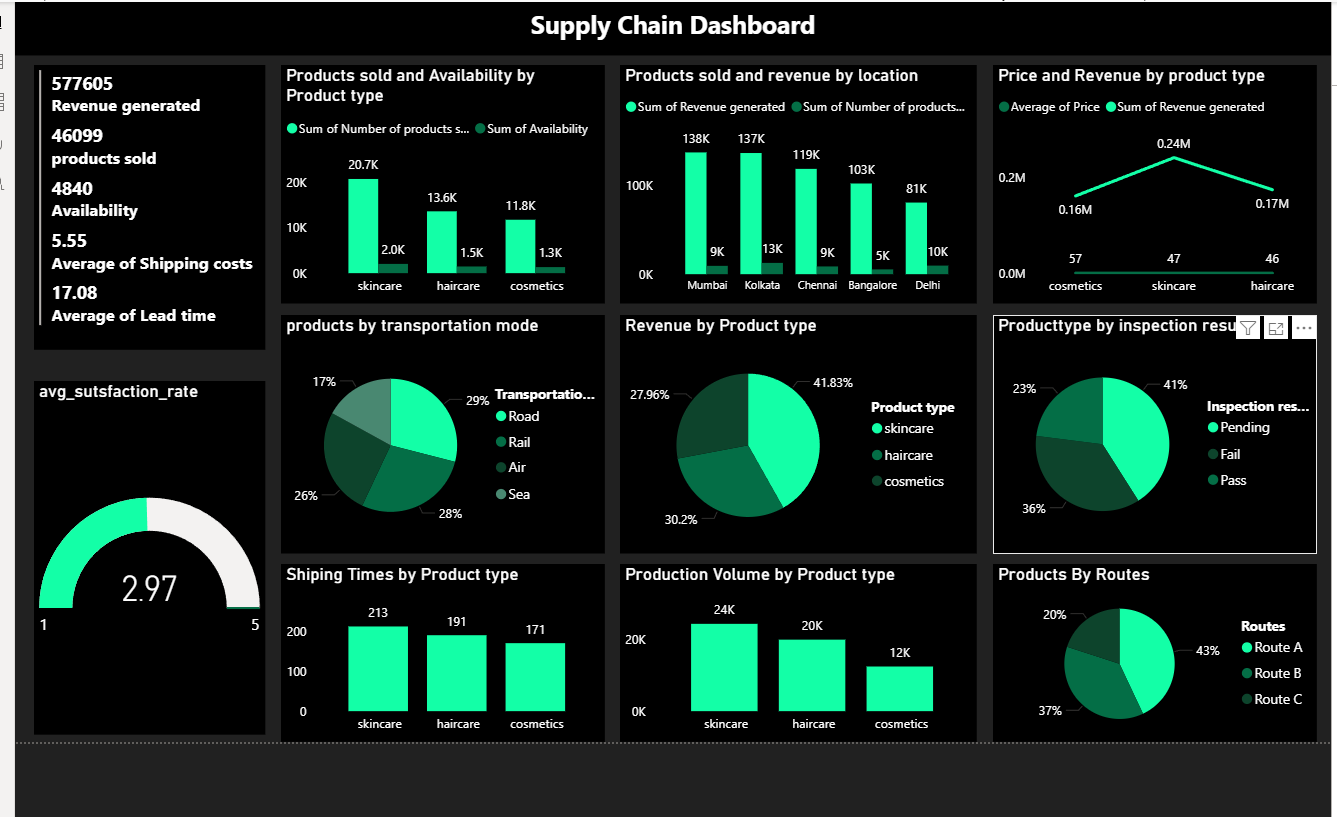

This screenshot's page, from the dashboard's own definition file:
{"tool":"powerbi","page":{"name":"Page 1","canvas":[1280,720],"ordinal":0},"visuals":[{"type":"multiRowCard","fields":{"Values":["Sum(supply_chain_data.Revenue generated)","Sum(supply_chain_data.Number of products sold)","Sum(supply_chain_data.Availability)","Avg(supply_chain_data.Shipping costs)","Avg(supply_chain_data.Lead time)"]},"box":[18.5,61.3,224.7,277.2],"z":0},{"type":"textbox","box":[0,0,1280,51.6],"z":1000},{"type":"clusteredColumnChart","title":"Products sold and  Availability by Product type","fields":{"Y":["Sum(supply_chain_data.Number of products sold)","Sum(supply_chain_data.Availability)"],"Category":["supply_chain_data.Product type"]},"box":[258.4,61.3,315.1,232.5],"z":2000},{"type":"clusteredColumnChart","title":"Products sold and  revenue by location","fields":{"Y":["Sum(supply_chain_data.Revenue generated)","Sum(supply_chain_data.Number of products sold)"],"Category":["supply_chain_data.Location"]},"box":[588.8,61.3,347.2,232.5],"z":3000},{"type":"lineChart","title":"Price and Revenue by product type","fields":{"Category":["supply_chain_data.Product type"],"Y":["Avg(supply_chain_data.Price)","Sum(supply_chain_data.Revenue generated)"]},"box":[951.2,61.3,315.1,232.5],"z":4000},{"type":"pieChart","title":"products by transportation mode","fields":{"Y":["CountNonNull(supply_chain_data.Product type)"],"Category":["supply_chain_data.Transportation modes"]},"box":[258.7,304.4,315.1,232.5],"z":5000},{"type":"pieChart","title":"Revenue by Product type","fields":{"Y":["Sum(supply_chain_data.Revenue generated)"],"Category":["supply_chain_data.Product type"]},"box":[588.4,304.4,347.2,232.5],"z":6000},{"type":"pieChart","title":"Producttype by inspection results","fields":{"Y":["CountNonNull(supply_chain_data.Product type)"],"Category":["supply_chain_data.Inspection results"]},"box":[951.2,304.4,315.1,232.5],"z":7000},{"type":"clusteredColumnChart","title":"Shiping Times by Product type","fields":{"Category":["supply_chain_data.Product type"],"Y":["Sum(supply_chain_data.Shipping times)"]},"box":[258.7,546.6,315.1,173.1],"z":8000},{"type":"clusteredColumnChart","title":"Production Volume by Product type","fields":{"Category":["supply_chain_data.Product type"],"Y":["Sum(supply_chain_data.Production volumes)"]},"box":[588.4,546.6,347.2,173.1],"z":9000},{"type":"pieChart","title":"Products By Routes","fields":{"Y":["CountNonNull(supply_chain_data.Product type)"],"Category":["supply_chain_data.Routes"]},"box":[951.2,546.6,315.1,173.1],"z":10000},{"type":"gauge","title":"avg_sutsfaction_rate","fields":{"Y":["supply_chain_data.avg_sutsfaction_rate"],"MinValue":["Min(supply_chain_data.sutisfaction rate)"],"TargetValue":["Max(supply_chain_data.sutisfaction rate)"],"MaxValue":["Max(supply_chain_data.sutisfaction rate)"]},"box":[18.5,368.6,224.7,344.3],"z":11000}]}

Visuals, with their boxes on the page's 1280x720 design canvas (x1, y1, x2, y2). These are canvas units, not pixel positions in the 1337x817 screenshot, which may show the page scaled, cropped or inside an application window:
multiRowCard - Sum(supply_chain_data.Revenue generated) x Sum(supply_chain_data.Number of products sold): (18,61,243,338)
textbox: (0,0,1280,52)
"Products sold and  Availability by Product type" clusteredColumnChart: (258,61,574,294)
"Products sold and  revenue by location" clusteredColumnChart: (589,61,936,294)
"Price and Revenue by product type" lineChart: (951,61,1266,294)
"products by transportation mode" pieChart: (259,304,574,537)
"Revenue by Product type" pieChart: (588,304,936,537)
"Producttype by inspection results" pieChart: (951,304,1266,537)
"Shiping Times by Product type" clusteredColumnChart: (259,547,574,720)
"Production Volume by Product type" clusteredColumnChart: (588,547,936,720)
"Products By Routes" pieChart: (951,547,1266,720)
"avg_sutsfaction_rate" gauge: (18,369,243,713)
